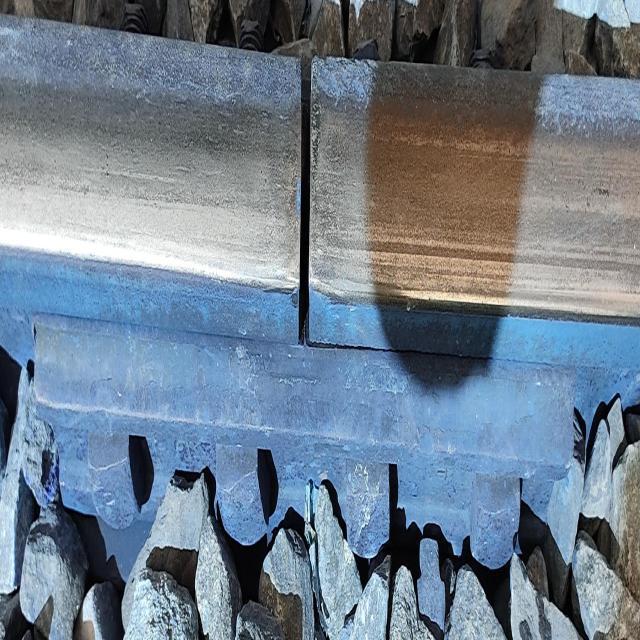Good Joint: (29, 323, 572, 579)
